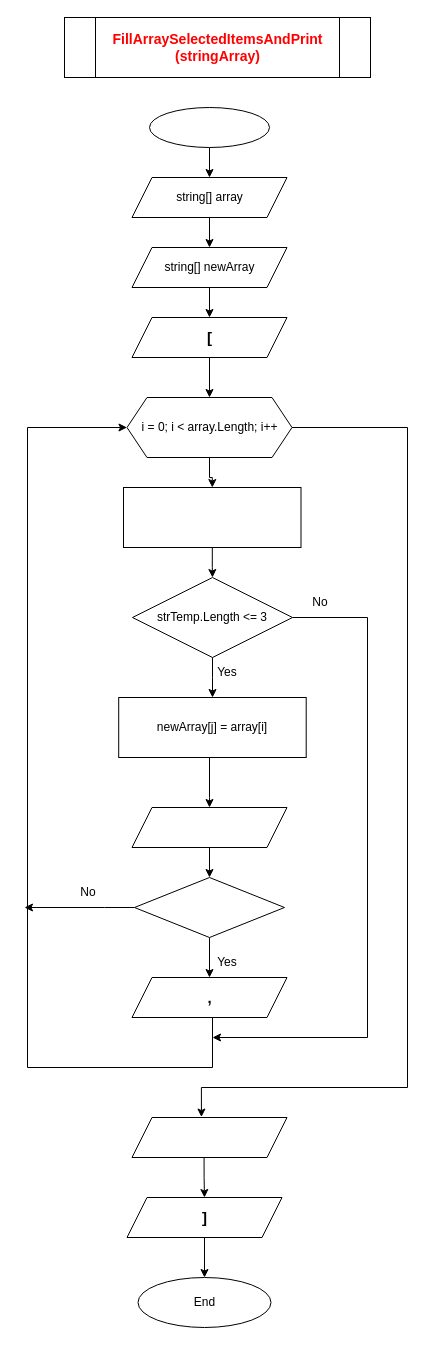
This 433x1345 diagram has some shape labels left out. The box of each missing label's shape, as (x1, y1, x2, y2) in pixels:
array[i]: (131, 806, 287, 848)
i != array.Length - 1: (134, 876, 284, 938)
newArray: (131, 1116, 287, 1158)
Start: (148, 106, 270, 148)
string strTemp = array[i] int j = SearchItems(array) - 1: (122, 486, 301, 548)
